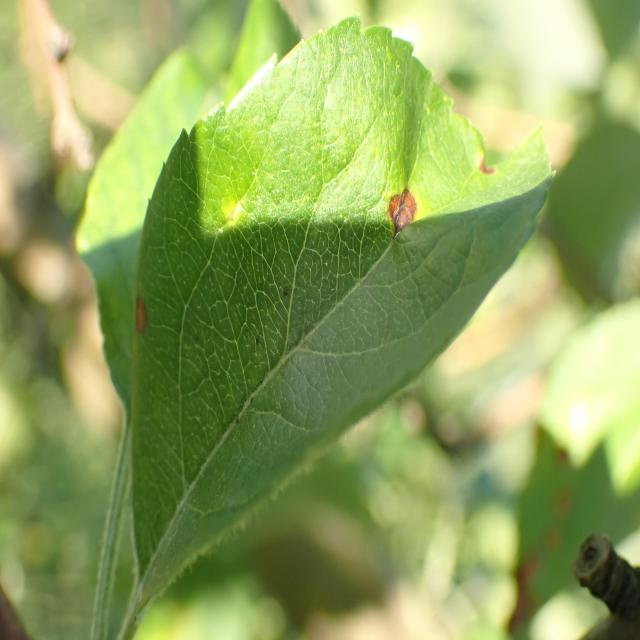Black Rot: (371, 164, 424, 254), (120, 286, 157, 358), (464, 126, 504, 191)
